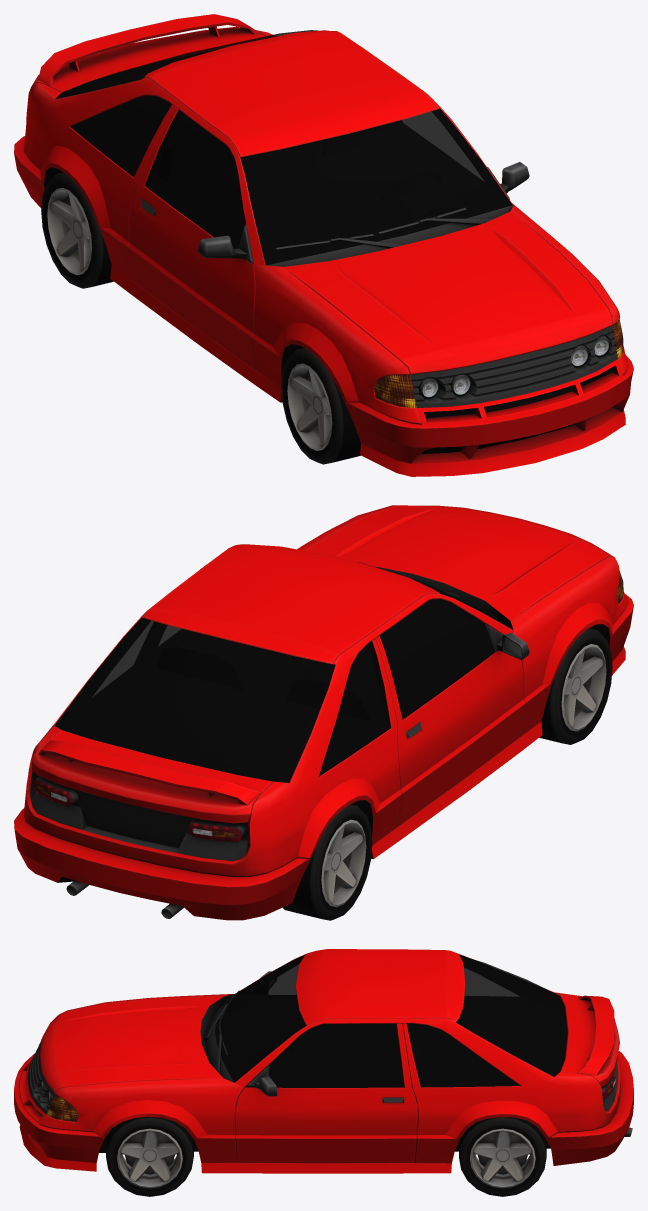
Rendered from Coupe.FBX.
3 views of the same model, one above another, from view 1: azimuth 30°, elevation 25°; view 2: azimuth 150°, elevation 25°; view 3: azimuth 270°, elevation 25° (orthographic). The views are drawn at different scales.
Visible parts, largest first — view 1: Coupe Body, Wheel_F002, Wheel_F003; view 2: Coupe Body, Wheel_F003, Wheel_F002; view 3: Coupe Body, Wheel_F, Wheel_F001.
Part boxes in pixels (x1,y1,x2,y2): Coupe Body: (14, 14, 633, 476); Wheel_F002: (281, 348, 360, 464); Wheel_F003: (41, 172, 113, 288); Coupe Body: (14, 505, 633, 920); Wheel_F003: (282, 804, 372, 920); Wheel_F002: (539, 628, 612, 744); Coupe Body: (14, 949, 633, 1173); Wheel_F: (106, 1116, 193, 1196); Wheel_F001: (459, 1117, 546, 1196).
Size of the model in its own units: 2120 by 1438 by 4770.
4 materials, 3 textured.
